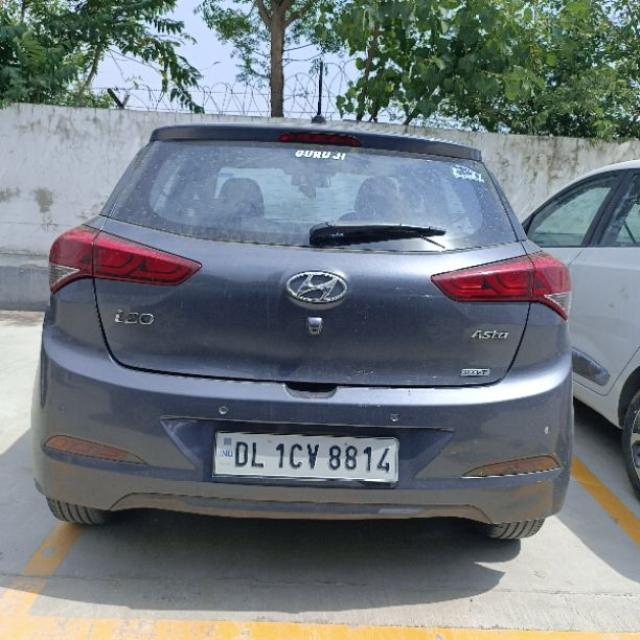license_plate: (210, 429, 400, 484)
